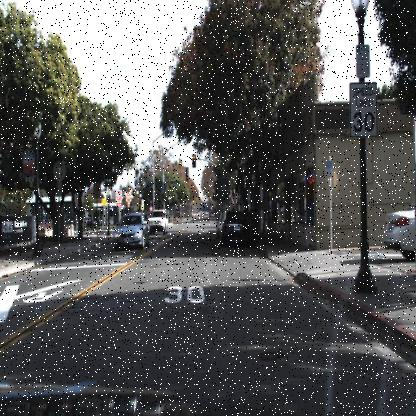car: (383, 200, 415, 262), (112, 211, 151, 252), (218, 208, 251, 247), (148, 209, 170, 233)
trafficLight-Red: (192, 152, 196, 170)
